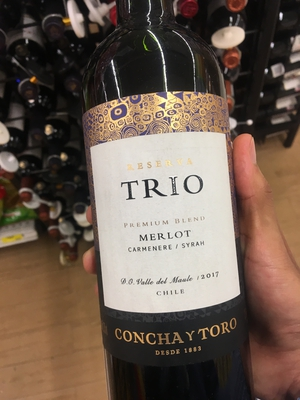trio merlot: (83, 18, 254, 393)
